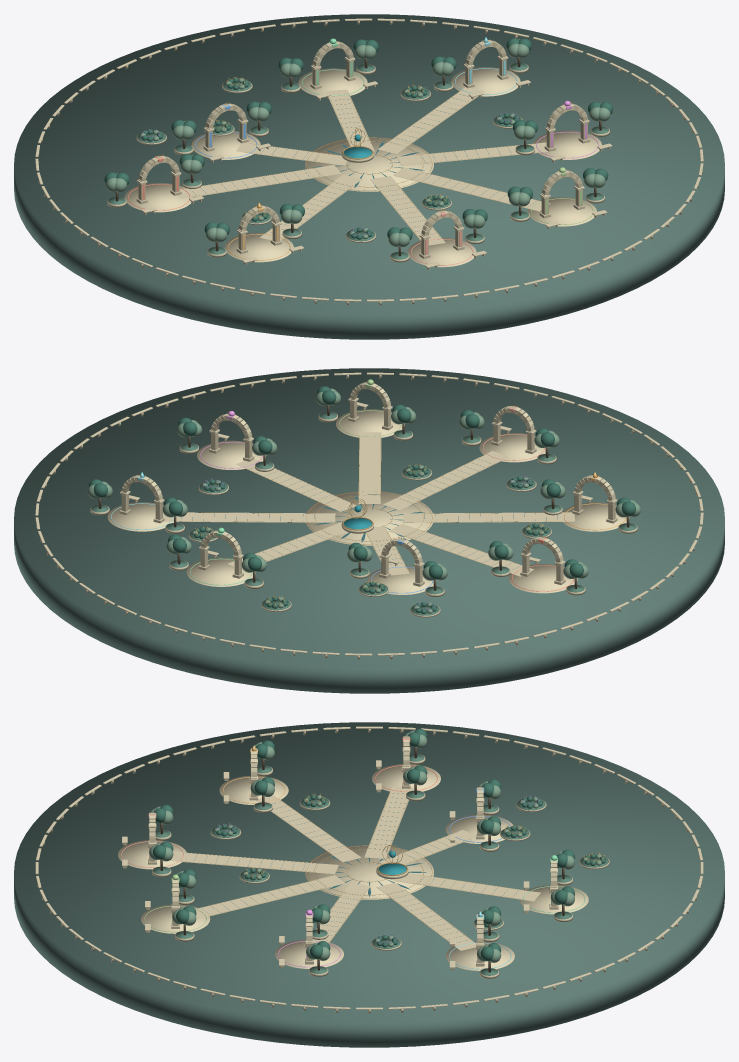
Rendered from nexus-garden.glb.
3 views of the same model, one above another, from view 1: azimuth 30°, elevation 25°; view 2: azimuth 150°, elevation 25°; view 3: azimuth 270°, elevation 25° (orthographic).
Visible parts, largest first — view 1: Nexus · island strata, Nexus · pale travertine, Nexus · warm limestone, Nexus · silver foliage, Nexus · olive foliage, Nexus · sage lawn, Nexus · brass, Nexus · slate inlay, Nexus · warm bark; view 2: Nexus · island strata, Nexus · pale travertine, Nexus · warm limestone, Nexus · olive foliage, Nexus · silver foliage, Nexus · sage lawn, Nexus · brass, Nexus · warm bark, Nexus · slate inlay; view 3: Nexus · island strata, Nexus · pale travertine, Nexus · warm limestone, Nexus · olive foliage, Nexus · silver foliage, Nexus · sage lawn, Nexus · brass, Nexus · slate inlay, Nexus · warm bark.
Boxes of the visible parts, x1=… form: Nexus · island strata: x1=14, y1=14, x2=724, y2=339; Nexus · pale travertine: x1=35, y1=18, x2=703, y2=301; Nexus · warm limestone: x1=38, y1=21, x2=702, y2=305; Nexus · silver foliage: x1=105, y1=39, x2=610, y2=247; Nexus · olive foliage: x1=104, y1=38, x2=613, y2=239; Nexus · sage lawn: x1=108, y1=63, x2=609, y2=259; Nexus · brass: x1=155, y1=39, x2=572, y2=240; Nexus · slate inlay: x1=190, y1=94, x2=536, y2=236; Nexus · warm bark: x1=115, y1=57, x2=601, y2=256; Nexus · island strata: x1=14, y1=368, x2=724, y2=693; Nexus · pale travertine: x1=35, y1=372, x2=703, y2=655; Nexus · warm limestone: x1=36, y1=375, x2=700, y2=659; Nexus · olive foliage: x1=88, y1=386, x2=635, y2=614; Nexus · silver foliage: x1=87, y1=388, x2=640, y2=613; Nexus · sage lawn: x1=91, y1=412, x2=636, y2=615; Nexus · brass: x1=138, y1=380, x2=599, y2=573; Nexus · warm bark: x1=98, y1=404, x2=629, y2=590; Nexus · slate inlay: x1=181, y1=459, x2=557, y2=565; Nexus · island strata: x1=14, y1=722, x2=724, y2=1047; Nexus · pale travertine: x1=35, y1=726, x2=703, y2=1009; Nexus · warm limestone: x1=37, y1=729, x2=701, y2=1013; Nexus · olive foliage: x1=153, y1=728, x2=605, y2=961; Nexus · silver foliage: x1=149, y1=730, x2=601, y2=962; Nexus · sage lawn: x1=153, y1=754, x2=608, y2=975; Nexus · brass: x1=181, y1=791, x2=531, y2=946; Nexus · slate inlay: x1=194, y1=793, x2=517, y2=942; Nexus · warm bark: x1=160, y1=747, x2=564, y2=972.
Size of the model in its own units: 154 by 16.85 by 154.
